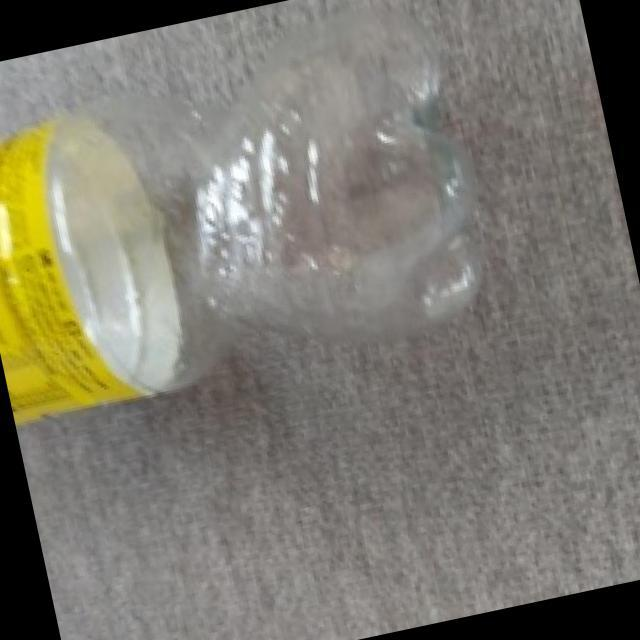good: (0, 0, 539, 445)
